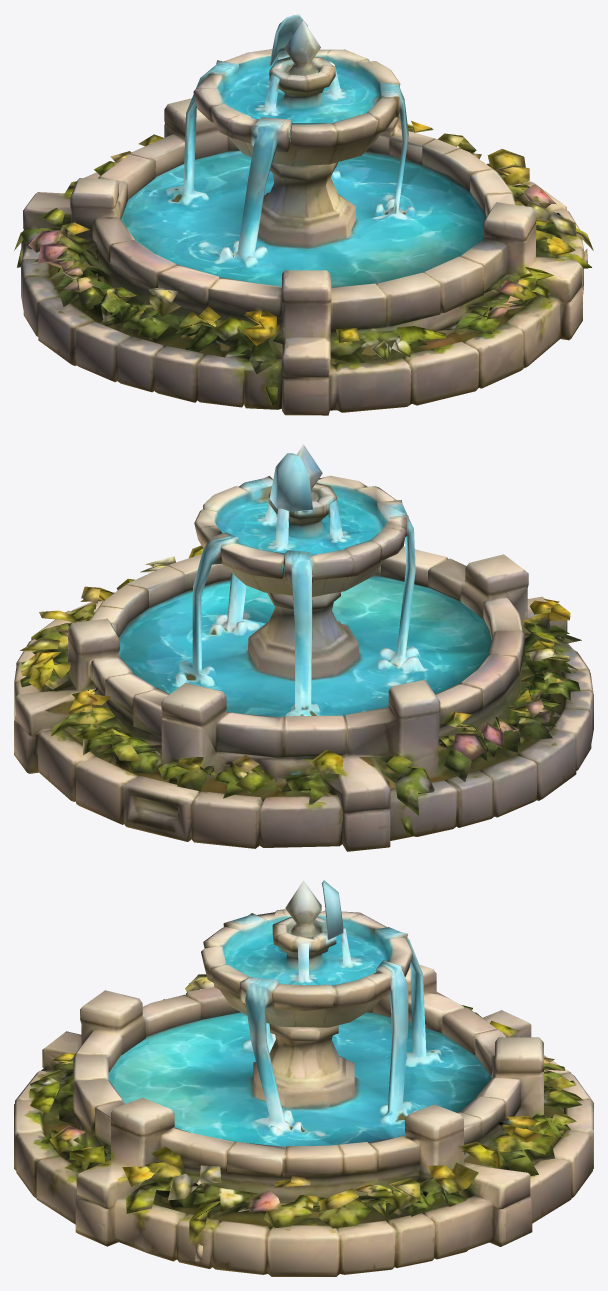
The model's file is fountain.glb.
3 views of the same model, one above another, from view 1: azimuth 30°, elevation 25°; view 2: azimuth 150°, elevation 25°; view 3: azimuth 270°, elevation 25° (orthographic). The views are drawn at different scales.
Visible parts, largest first — view 1: fountain; view 2: fountain; view 3: fountain.
Part boxes in pixels (box(x1,y1,x2,y2)): fountain: box(14, 14, 593, 415); fountain: box(14, 444, 593, 851); fountain: box(14, 880, 593, 1276).
Bounding box in the file's own units: 3.29 × 1.74 × 3.3.
1 material, 1 textured.
